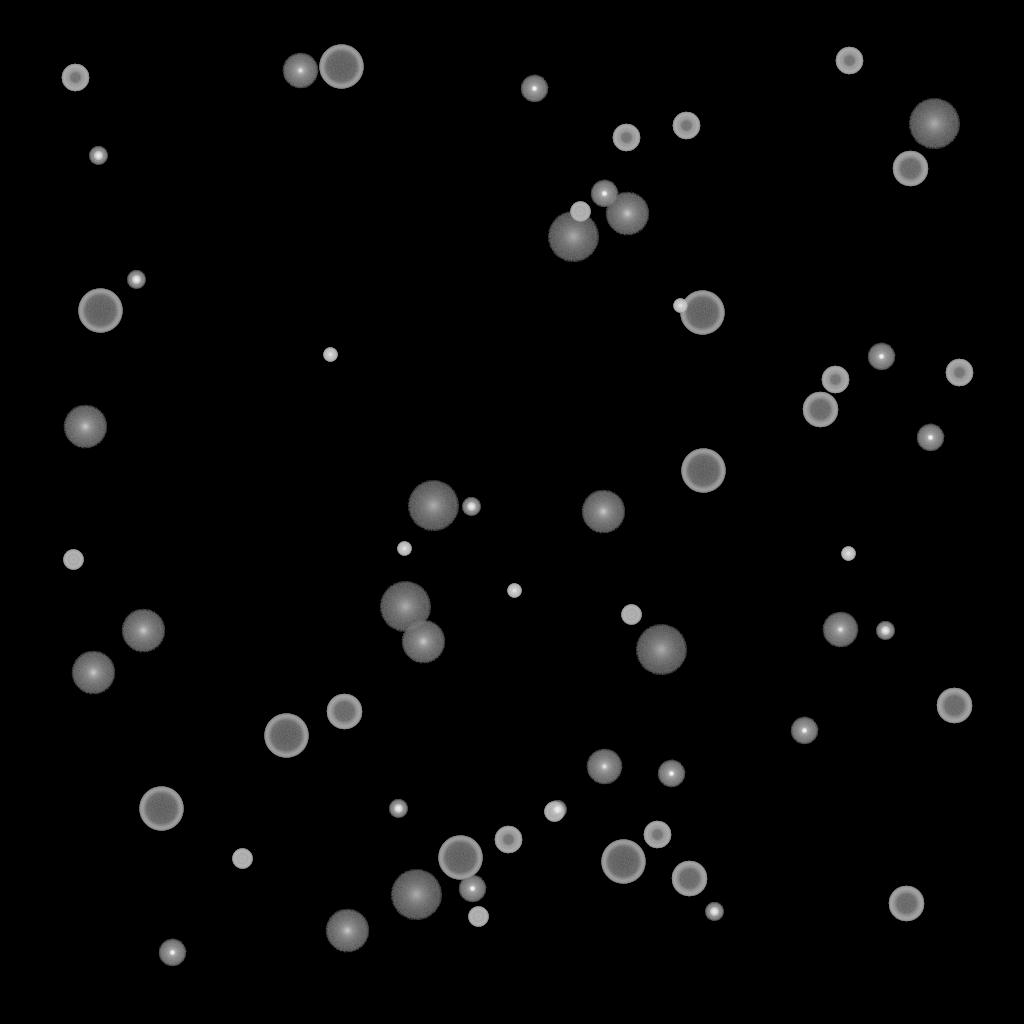depth:-10: (790, 717, 818, 745), (657, 760, 685, 788), (520, 75, 548, 103), (916, 424, 944, 452), (458, 875, 486, 903), (867, 343, 895, 371), (158, 939, 186, 967), (590, 180, 618, 208)
depth:-20: (462, 498, 480, 516), (705, 903, 723, 921), (127, 271, 145, 289), (89, 147, 107, 165), (548, 801, 566, 819), (389, 800, 407, 818), (876, 622, 894, 640)
depth:-30: (507, 584, 521, 598), (323, 348, 337, 362), (841, 547, 855, 561), (397, 542, 411, 556), (673, 299, 687, 313)
depth:-40: (621, 605, 641, 625), (63, 550, 83, 570), (468, 907, 488, 927), (544, 802, 564, 822), (570, 202, 590, 222), (232, 849, 252, 869)
depth:-50: (821, 366, 849, 394), (672, 112, 700, 140), (612, 124, 640, 152), (945, 359, 973, 387), (643, 821, 671, 849), (61, 64, 89, 92), (835, 47, 863, 75), (494, 826, 522, 854)
depth:-60: (936, 688, 972, 724), (892, 151, 928, 187), (326, 694, 362, 730), (888, 886, 924, 922), (802, 392, 838, 428), (671, 861, 707, 897)
depth:-70: (139, 787, 183, 831), (601, 840, 645, 884), (78, 289, 122, 333), (319, 45, 363, 89), (681, 449, 725, 493), (264, 714, 308, 758), (438, 836, 482, 880), (680, 291, 724, 335)
depth:0: (586, 749, 622, 785), (282, 53, 318, 89), (822, 612, 858, 648)
depth:10: (325, 909, 369, 953), (63, 405, 107, 449), (71, 651, 115, 695), (581, 490, 625, 534), (121, 609, 165, 653), (401, 620, 445, 664), (605, 192, 649, 236)
depth:20: (390, 870, 442, 920), (635, 625, 687, 675), (547, 212, 599, 262), (407, 481, 459, 531), (908, 99, 960, 149), (379, 582, 431, 632)
